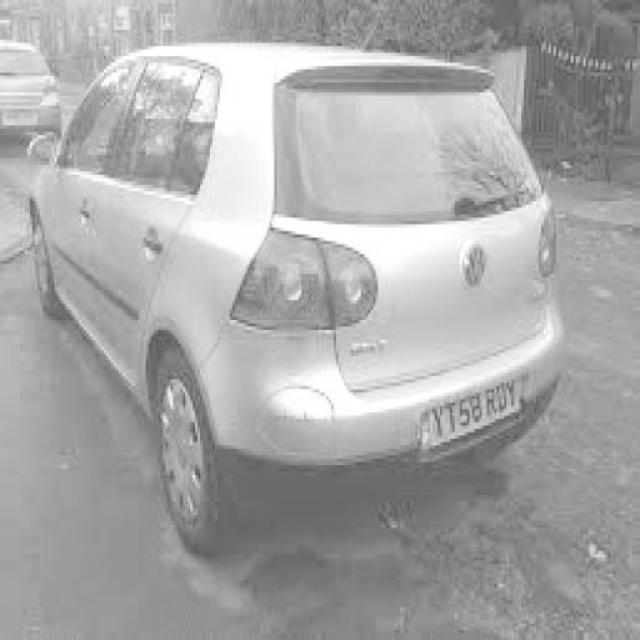car damage: (258, 388, 336, 458)
